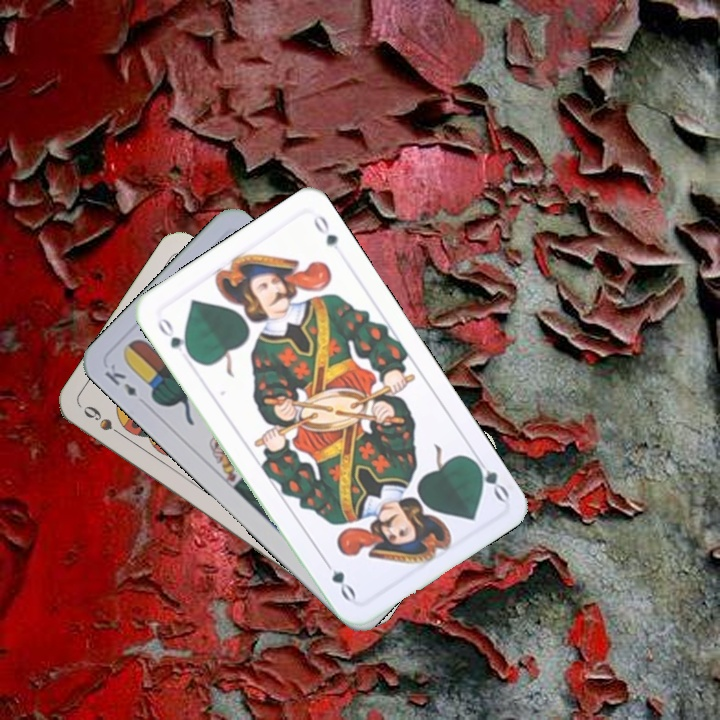EK: (100, 359, 140, 400)
GO: (467, 450, 512, 504), (153, 314, 196, 362)
S9: (79, 401, 130, 442)
